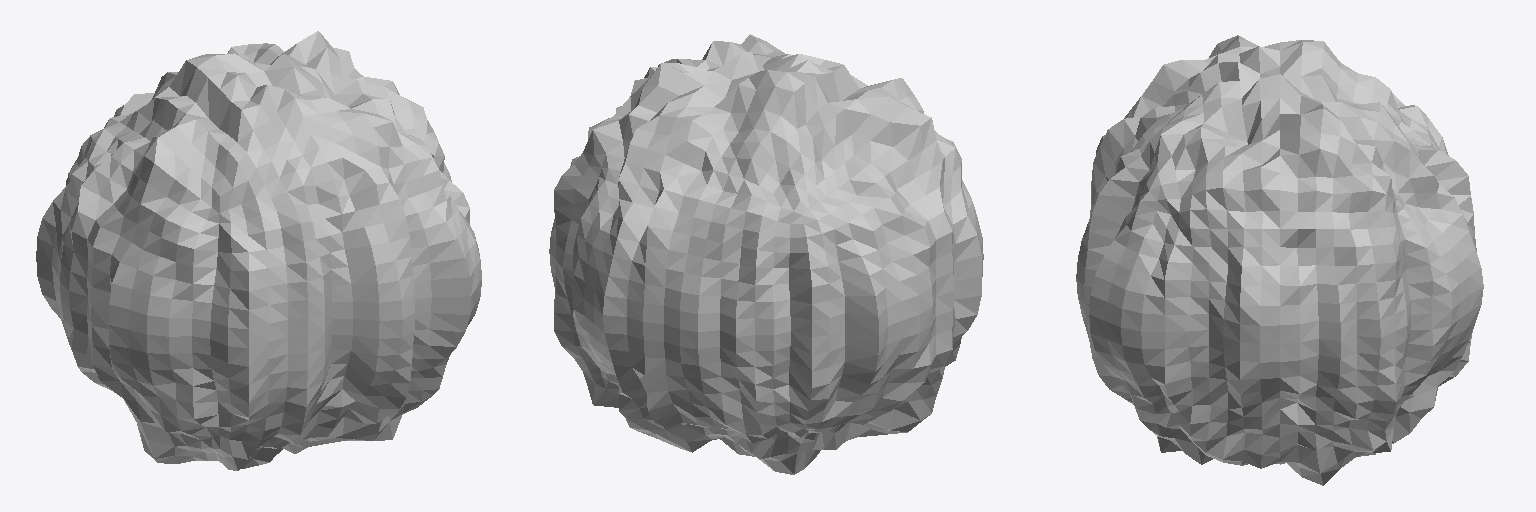
File: asteroid35.obj
3 views of the same model, side by side, from view 1: azimuth 30°, elevation 25°; view 2: azimuth 150°, elevation 25°; view 3: azimuth 270°, elevation 25° (orthographic).
Visible parts, largest first — view 1: Cube_Cube.002; view 2: Cube_Cube.002; view 3: Cube_Cube.002.
Boxes of the visible parts, x1,y1,x2,y2 form: Cube_Cube.002: [36, 31, 481, 470]; Cube_Cube.002: [549, 34, 983, 474]; Cube_Cube.002: [1076, 35, 1483, 485].
Size of the model in its own units: 1.77 by 1.86 by 1.72.